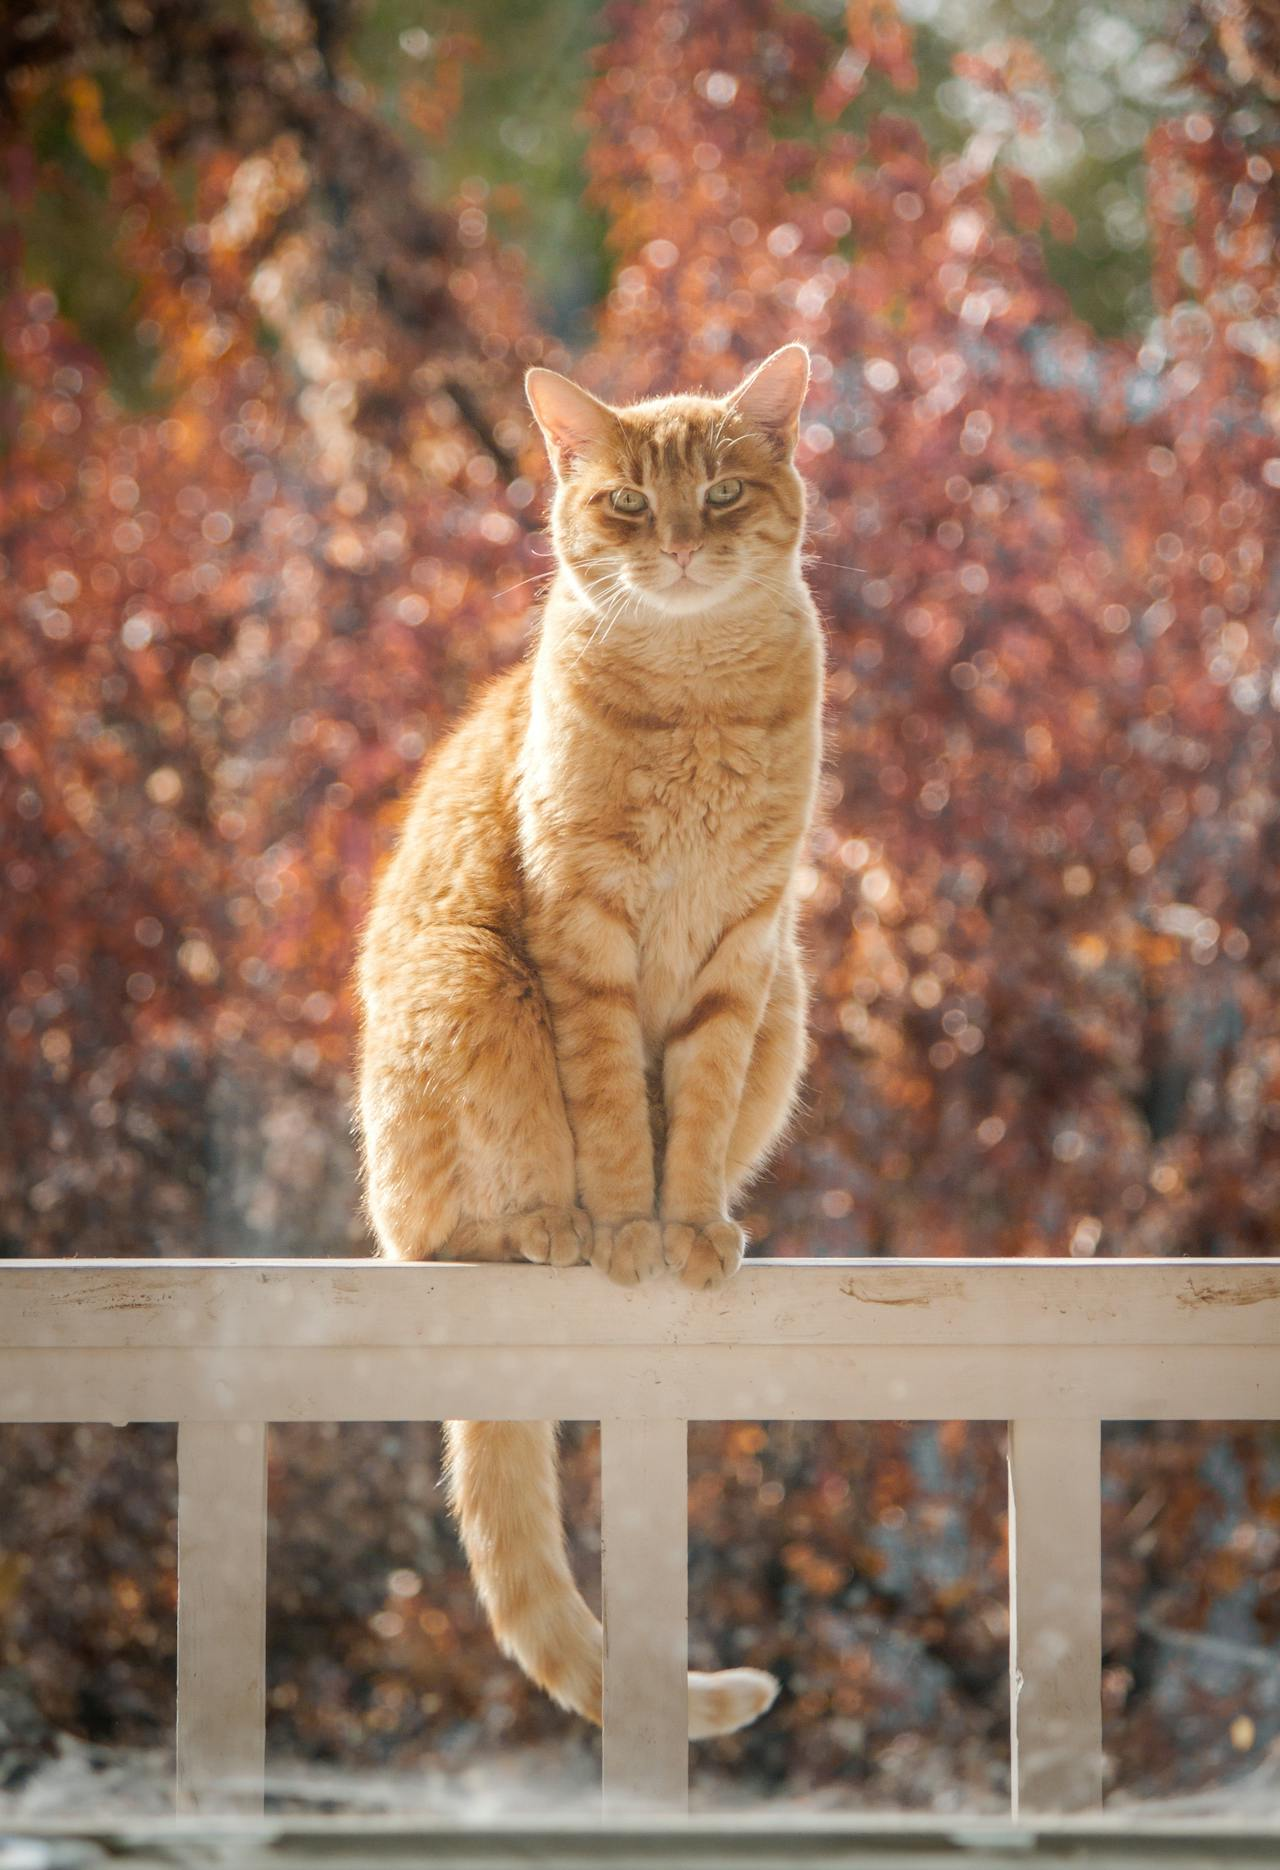cat: (385, 298, 821, 1788)
